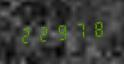eight: (86, 17, 102, 40)
nine: (52, 20, 68, 43)
seven: (69, 19, 85, 41)
two: (18, 23, 34, 46), (35, 22, 51, 44)
